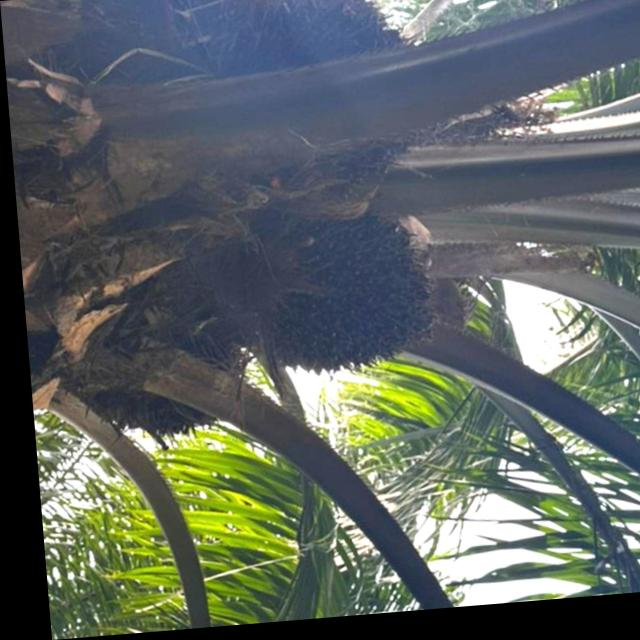unripe: (232, 200, 444, 393)
